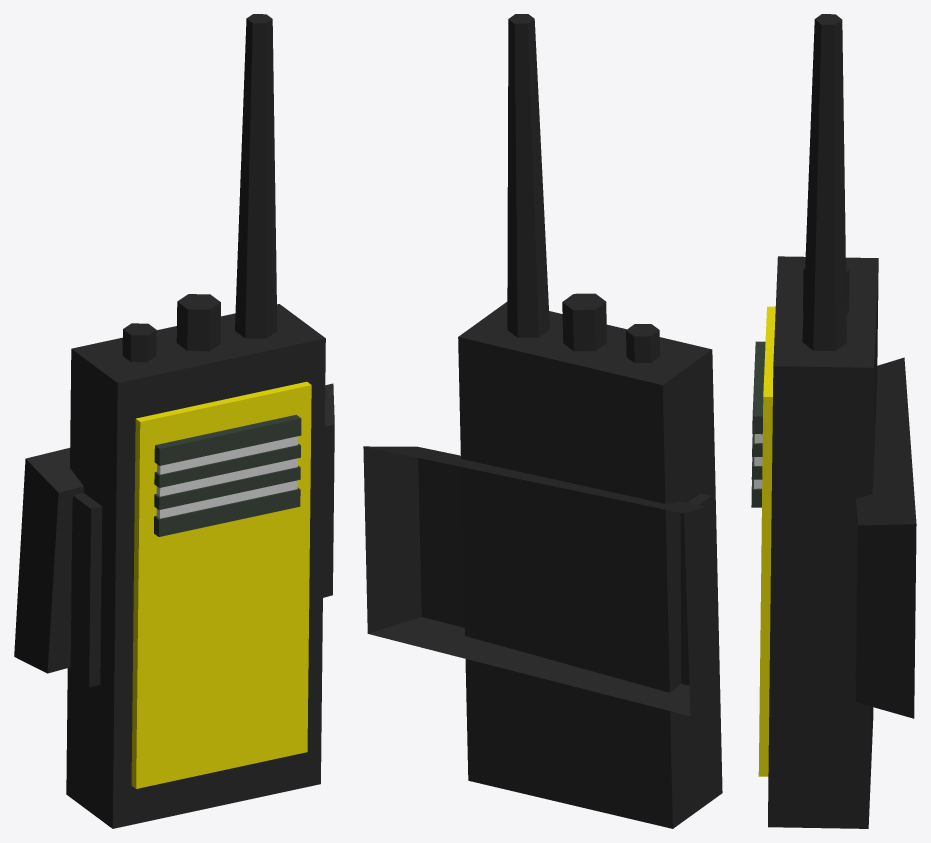
The model's file is Firefighter_Radio.fbx.
3 views of the same model, side by side, from view 1: azimuth 30°, elevation 25°; view 2: azimuth 150°, elevation 25°; view 3: azimuth 270°, elevation 25° (orthographic). The views are drawn at different scales.
Parts seen in each view (by area): view 1: Firefighter_Radio; view 2: Firefighter_Radio; view 3: Firefighter_Radio.
Part boxes in pixels (x1=…): Firefighter_Radio: x1=14, y1=14, x2=334, y2=828; Firefighter_Radio: x1=363, y1=14, x2=722, y2=828; Firefighter_Radio: x1=751, y1=14, x2=916, y2=828.
Bounding box in the file's own units: 10.39 × 23.19 × 4.38.
